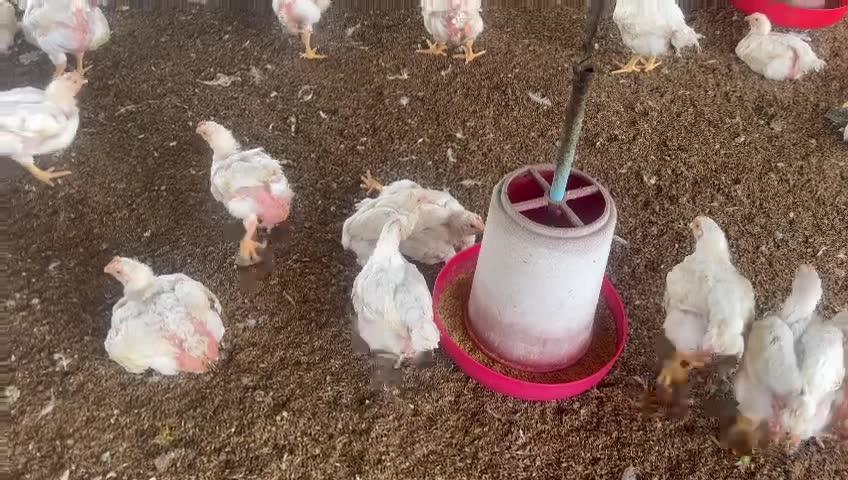AbNormal: (94, 250, 239, 385), (350, 168, 486, 268), (731, 10, 831, 88)
Normal: (729, 236, 848, 456), (641, 203, 751, 391), (189, 111, 304, 264), (349, 215, 445, 364), (0, 62, 104, 190), (21, 0, 114, 84), (610, 0, 702, 84), (418, 1, 503, 73), (268, 0, 342, 65)
